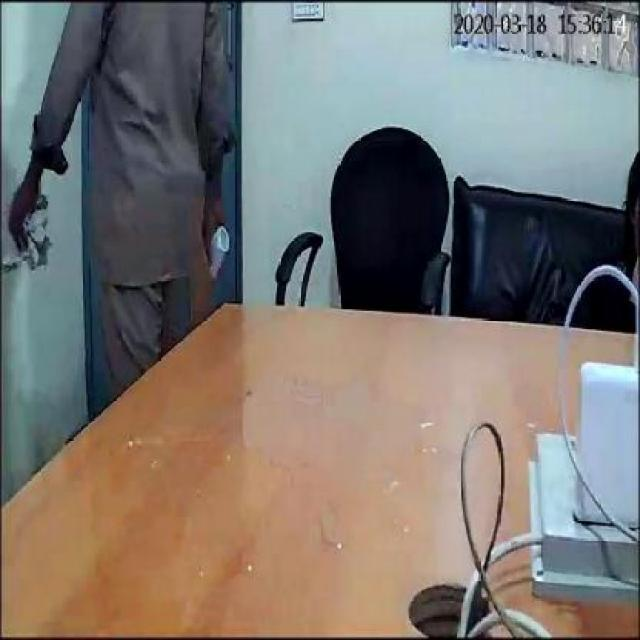spill: (138, 373, 456, 550)
